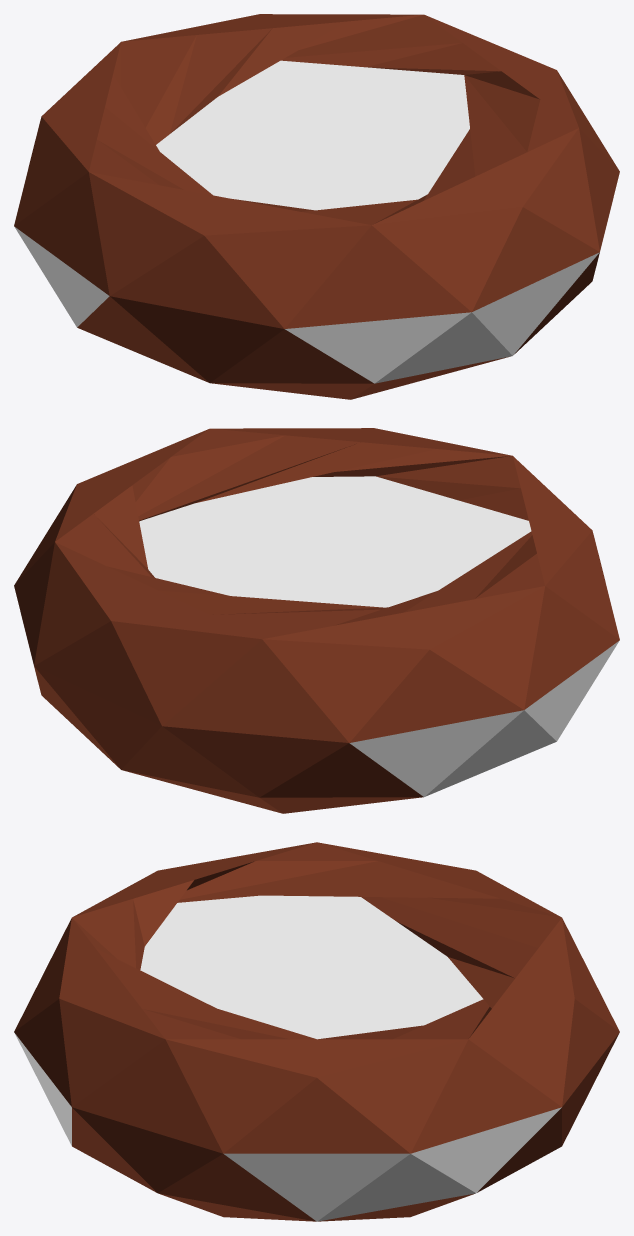
The model's file is jap04.fbx.
3 views of the same model, one above another, from view 1: azimuth 30°, elevation 25°; view 2: azimuth 150°, elevation 25°; view 3: azimuth 270°, elevation 25° (orthographic). The views are drawn at different scales.
Parts seen in each view (by area): view 1: Icosphere; view 2: Icosphere; view 3: Icosphere.
Boxes of the visible parts, <box> form: Icosphere: <box>14,14,619,399</box>; Icosphere: <box>14,428,619,813</box>; Icosphere: <box>14,842,619,1221</box>.
Size of the model in its own units: 456 by 205 by 479.
